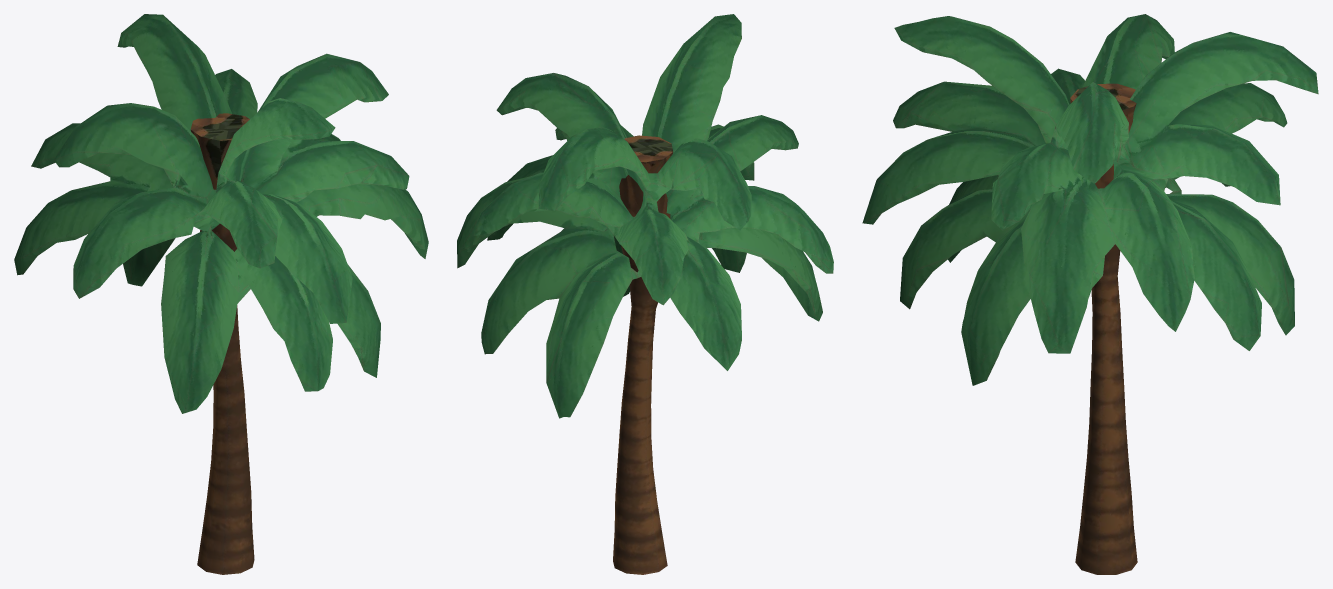
Rendered from palm_c.glb.
The picture shows the model from 3 angles, left to right: view 1: azimuth 30°, elevation 25°; view 2: azimuth 150°, elevation 25°; view 3: azimuth 270°, elevation 25°; orthographic projection. The views are drawn at different scales.
Visible parts, largest first — view 1: body; view 2: body; view 3: body.
Boxes of the visible parts, box(x1,y1,x2,y2) form: body: box(14, 14, 428, 574); body: box(457, 14, 833, 574); body: box(862, 14, 1318, 574).
Size of the model in its own units: 3.31 by 4.56 by 3.46.
Materials: 2 (2 with a texture image).
